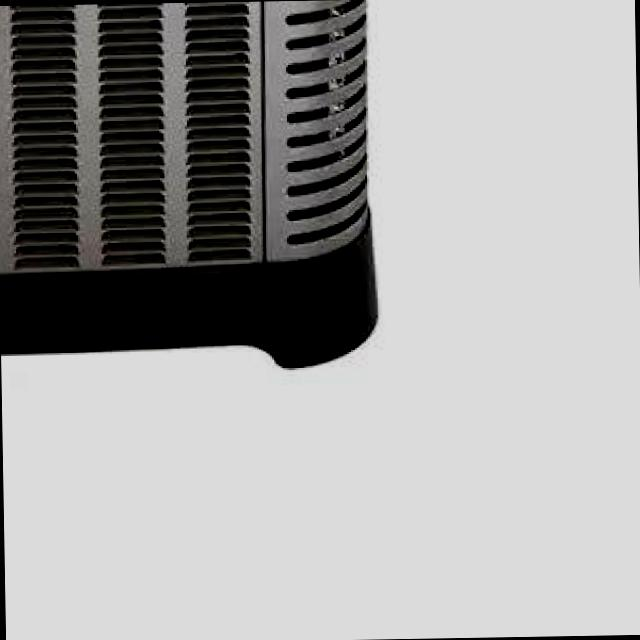SPLIT-SYSTEM: (0, 0, 400, 402)
